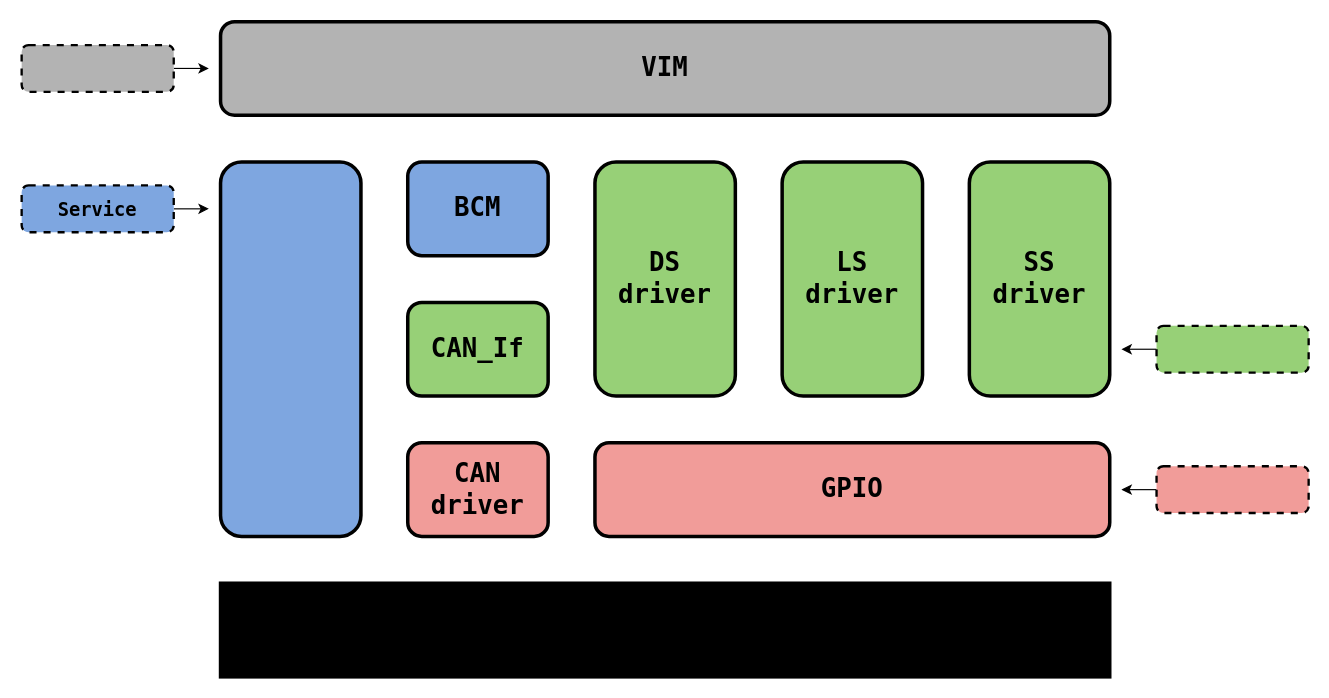
Image size: 1329x698. Some labels were removed from this diagram. Here are the shapes that lost their labels. From the top down, the centre of each, then its label:
(97,67): Application
(290,349): OS
(1232,348): HAL
(1232,489): MCAL
(664,629): HW Microcontroller
